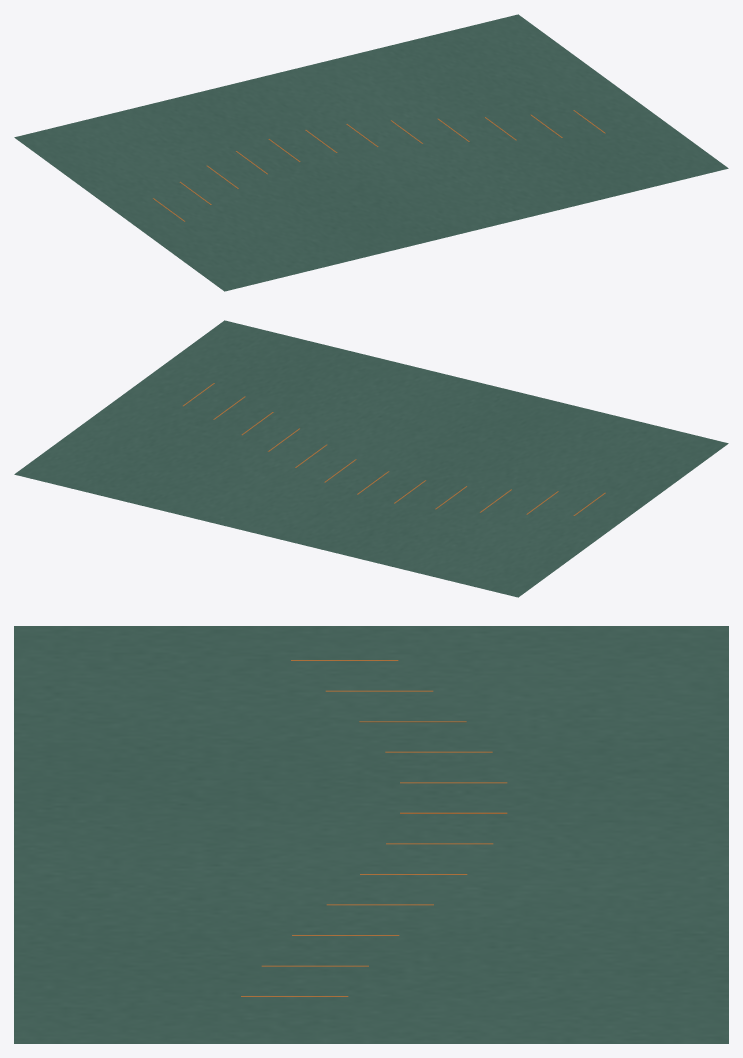
The model's file is 279_L120_L14_LayerReference.obj.
3 views of the same model, one above another, from view 1: azimuth 30°, elevation 25°; view 2: azimuth 150°, elevation 25°; view 3: azimuth 270°, elevation 25° (orthographic). The views are drawn at different scales.
Parts seen in each view (by area): view 1: 279_L120_L14_LayerReference; view 2: 279_L120_L14_LayerReference; view 3: 279_L120_L14_LayerReference.
Part boxes in pixels (box(x1,y1,x2,y2)): 279_L120_L14_LayerReference: box(14, 14, 728, 291); 279_L120_L14_LayerReference: box(14, 320, 728, 597); 279_L120_L14_LayerReference: box(14, 626, 728, 1043).
Size of the model in its own units: 0.506 by 0.000136 by 0.366.
2 materials, 2 textured.
